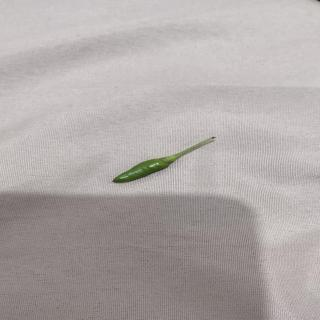Cabai Hijau: (109, 134, 221, 189)
